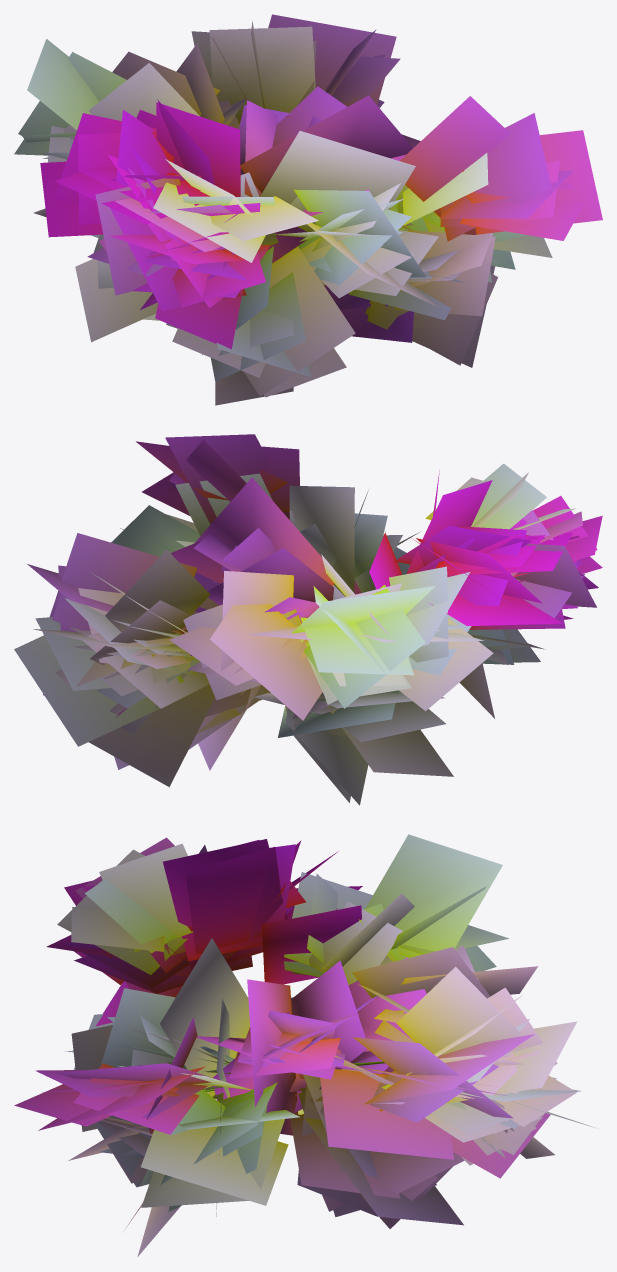
Rendered from tree_cherry_b_green_lod1.glb.
3 views of the same model, one above another, from view 1: azimuth 30°, elevation 25°; view 2: azimuth 150°, elevation 25°; view 3: azimuth 270°, elevation 25° (orthographic). The views are drawn at different scales.
Parts seen in each view (by area): view 1: tree_cherry_b_green_lod1; view 2: tree_cherry_b_green_lod1; view 3: tree_cherry_b_green_lod1.
Boxes of the visible parts, x1,y1,x2,y2 form: tree_cherry_b_green_lod1: (14, 14, 602, 405); tree_cherry_b_green_lod1: (14, 434, 602, 805); tree_cherry_b_green_lod1: (14, 834, 596, 1256).
Size of the model in its own units: 16.69 by 9.53 by 16.9.
